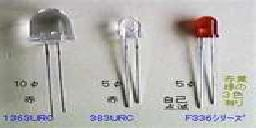LED: (26, 6, 78, 120), (189, 13, 220, 111), (109, 13, 152, 76)
